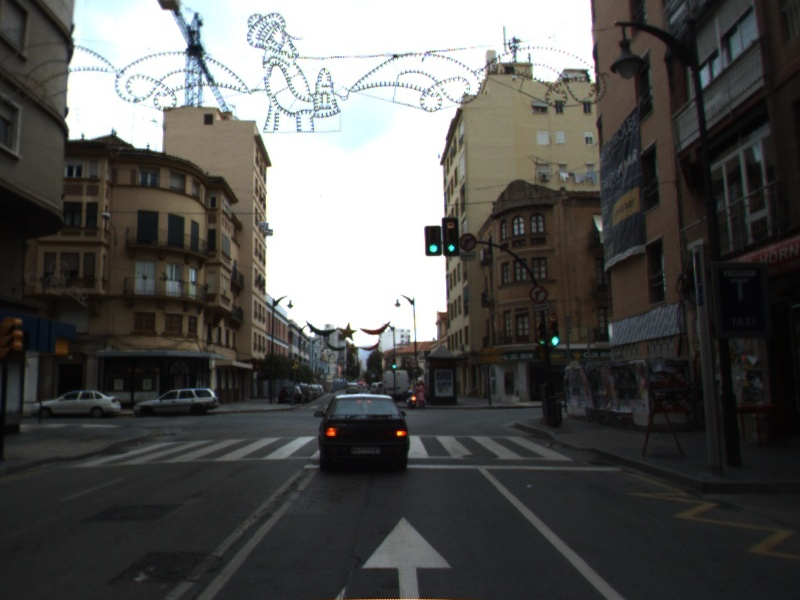STRAIGHT: (358, 512, 455, 600)
